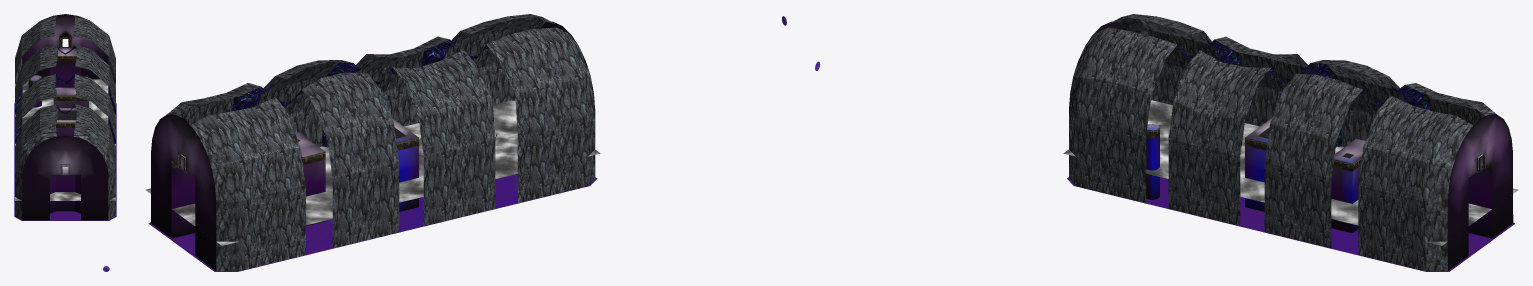
The picture shows the model from 3 angles, left to right: view 1: azimuth 30°, elevation 25°; view 2: azimuth 150°, elevation 25°; view 3: azimuth 270°, elevation 25°; orthographic projection. The views are drawn at different scales.
Visible parts, largest first — view 1: node-03BD5A48, node-02CC58FF, node-03E96F17, node-01A82C88, node-0244C7AC, node-03C32D6C, node-02A828C9, node-0334E7D4, node-00DC2679, node-012F20F9; view 2: node-03BD5A48, node-02CC58FF, node-01A82C88, node-03E96F17, node-0244C7AC, node-02A828C9, node-03C32D6C, node-0334E7D4; view 3: node-03BD5A48, node-02CC58FF, node-03E96F17, node-01A82C88, node-0244C7AC, node-02A828C9, node-03C32D6C, node-0334E7D4.
Part boxes in pixels (x1=…): node-03BD5A48: x1=15, y1=16, x2=115, y2=220; node-02CC58FF: x1=22, y1=14, x2=108, y2=220; node-03E96F17: x1=28, y1=61, x2=88, y2=213; node-01A82C88: x1=15, y1=79, x2=115, y2=200; node-0244C7AC: x1=14, y1=103, x2=116, y2=220; node-03C32D6C: x1=30, y1=47, x2=76, y2=169; node-02A828C9: x1=15, y1=45, x2=115, y2=143; node-0334E7D4: x1=28, y1=56, x2=88, y2=127; node-00DC2679: x1=57, y1=110, x2=76, y2=120; node-012F20F9: x1=59, y1=30, x2=71, y2=48; node-03BD5A48: x1=167, y1=14, x2=595, y2=271; node-02CC58FF: x1=151, y1=21, x2=594, y2=270; node-01A82C88: x1=145, y1=100, x2=600, y2=245; node-03E96F17: x1=171, y1=145, x2=418, y2=238; node-0244C7AC: x1=148, y1=174, x2=597, y2=271; node-02A828C9: x1=232, y1=34, x2=496, y2=147; node-03C32D6C: x1=177, y1=118, x2=418, y2=172; node-0334E7D4: x1=171, y1=137, x2=418, y2=168; node-03BD5A48: x1=1069, y1=14, x2=1496, y2=271; node-02CC58FF: x1=1069, y1=21, x2=1513, y2=270; node-03E96F17: x1=1146, y1=135, x2=1492, y2=238; node-01A82C88: x1=1063, y1=100, x2=1518, y2=245; node-0244C7AC: x1=1067, y1=177, x2=1514, y2=271; node-02A828C9: x1=1168, y1=33, x2=1431, y2=147; node-03C32D6C: x1=1147, y1=79, x2=1486, y2=172; node-0334E7D4: x1=1146, y1=81, x2=1492, y2=171.
Bounding box in the file's own units: 2584 × 1053 × 4761.
